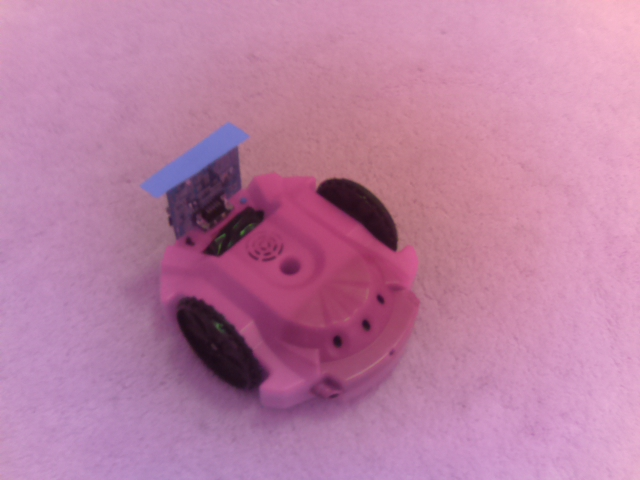board: (142, 118, 260, 225)
chassis: (145, 118, 431, 420)
